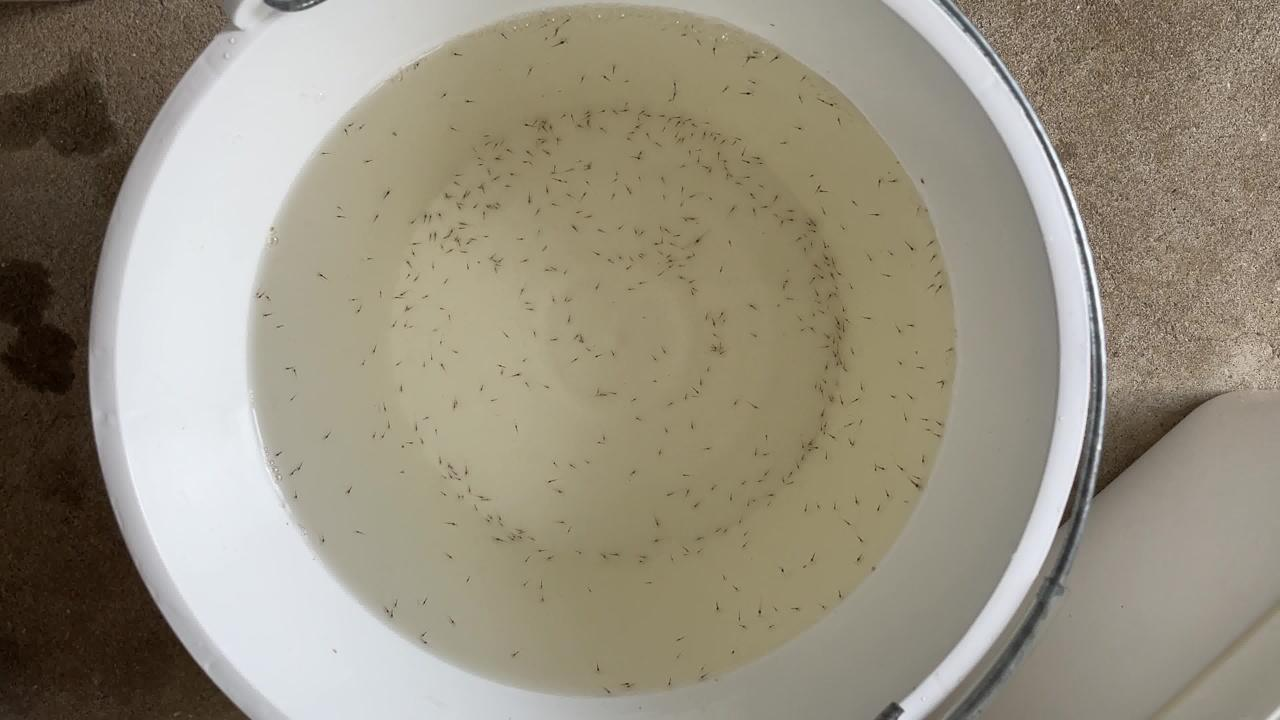shrimp: (287, 468, 299, 476), (295, 462, 307, 470), (275, 453, 287, 461), (290, 491, 302, 499), (319, 530, 331, 538), (341, 491, 353, 499), (355, 524, 367, 532), (322, 431, 334, 439), (286, 392, 298, 400), (282, 361, 294, 369), (292, 367, 304, 375), (280, 323, 292, 331), (262, 311, 274, 319), (254, 291, 266, 299), (264, 293, 276, 301), (315, 268, 327, 276), (336, 214, 348, 222), (335, 203, 347, 211), (347, 293, 359, 301), (352, 302, 364, 310), (318, 148, 330, 156), (340, 126, 352, 134), (345, 119, 357, 127), (359, 124, 371, 132), (361, 156, 373, 164), (385, 190, 397, 198), (372, 211, 384, 219), (364, 251, 376, 259), (375, 286, 387, 294), (356, 357, 368, 365), (368, 342, 380, 350), (388, 320, 400, 328), (397, 320, 409, 328), (405, 322, 417, 330), (393, 358, 405, 366), (380, 398, 392, 406), (371, 431, 383, 439), (378, 433, 390, 441), (382, 420, 394, 428), (382, 607, 394, 615), (387, 613, 399, 621), (392, 598, 404, 606), (419, 630, 431, 638), (419, 636, 431, 644), (419, 599, 431, 607), (444, 614, 456, 622), (511, 649, 523, 657), (592, 662, 604, 670), (598, 685, 610, 693), (616, 677, 628, 685), (624, 682, 636, 690), (660, 678, 672, 686), (676, 651, 688, 659), (675, 631, 687, 639), (694, 661, 706, 669), (693, 675, 705, 683), (537, 579, 549, 587), (520, 582, 532, 590), (465, 572, 477, 580), (446, 552, 458, 560), (449, 516, 461, 524), (398, 468, 410, 476), (397, 444, 409, 452), (407, 439, 419, 447), (421, 437, 433, 445), (410, 425, 422, 433), (395, 383, 407, 391), (421, 413, 433, 421), (433, 428, 445, 436), (432, 461, 444, 469), (441, 487, 453, 495), (438, 473, 450, 481), (444, 473, 456, 481), (452, 476, 464, 484), (448, 468, 460, 476), (445, 460, 457, 468), (453, 492, 465, 500), (465, 486, 477, 494), (462, 466, 474, 474), (470, 503, 482, 511), (482, 494, 494, 502), (475, 491, 487, 499), (482, 509, 494, 517), (483, 519, 495, 527), (493, 538, 505, 546), (495, 519, 507, 527), (495, 513, 507, 521), (504, 535, 516, 543), (513, 534, 525, 542), (520, 528, 532, 536), (515, 526, 527, 534), (527, 533, 539, 541), (523, 553, 535, 561), (538, 544, 550, 552), (543, 554, 555, 562), (426, 352, 438, 360), (421, 361, 433, 369), (433, 361, 445, 369), (452, 398, 464, 406), (450, 344, 462, 352), (436, 337, 448, 345), (428, 323, 440, 331), (401, 305, 413, 313), (393, 293, 405, 301), (399, 288, 411, 296), (422, 293, 434, 301), (435, 303, 447, 311), (448, 312, 460, 320), (409, 273, 421, 281), (402, 272, 414, 280), (402, 262, 414, 270), (408, 251, 420, 259), (412, 241, 424, 249), (428, 262, 440, 270), (439, 275, 451, 283), (501, 331, 513, 339), (496, 360, 508, 368), (498, 366, 510, 374), (475, 382, 487, 390), (487, 394, 499, 402), (511, 420, 523, 428), (508, 368, 520, 376), (517, 357, 529, 365), (522, 379, 534, 387), (547, 381, 559, 389), (551, 457, 563, 465), (550, 475, 562, 483), (553, 486, 565, 494), (557, 519, 569, 527), (565, 526, 577, 534), (575, 546, 587, 554), (585, 585, 597, 593), (537, 596, 549, 604), (729, 647, 741, 655), (739, 622, 751, 630), (735, 612, 747, 620), (713, 605, 725, 613), (649, 578, 661, 586), (635, 558, 647, 566), (638, 551, 650, 559), (597, 552, 609, 560), (607, 552, 619, 560), (566, 464, 578, 472), (581, 454, 593, 462), (597, 439, 609, 447), (599, 430, 611, 438), (887, 177, 899, 185), (874, 177, 886, 185), (821, 99, 833, 107), (816, 93, 828, 101), (835, 115, 847, 123), (825, 101, 837, 109), (799, 94, 811, 102), (799, 70, 811, 78), (447, 51, 459, 59), (390, 128, 402, 136), (440, 92, 452, 100), (448, 123, 460, 131), (462, 99, 474, 107), (527, 67, 539, 75), (497, 30, 509, 38), (557, 40, 569, 48), (550, 30, 562, 38), (539, 22, 551, 30), (561, 18, 573, 26), (608, 61, 620, 69), (599, 70, 611, 78), (580, 72, 592, 80), (621, 74, 633, 82), (671, 80, 683, 88), (671, 87, 683, 95), (666, 94, 678, 102), (713, 44, 725, 52), (693, 36, 705, 44), (676, 28, 688, 36), (725, 84, 737, 92), (741, 90, 753, 98), (746, 77, 758, 85), (751, 55, 763, 63), (741, 56, 753, 64), (774, 51, 786, 59), (754, 48, 766, 56), (792, 119, 804, 127), (780, 135, 792, 143), (430, 232, 442, 240), (425, 232, 437, 240), (427, 209, 439, 217), (421, 210, 433, 218), (404, 214, 416, 222), (435, 206, 447, 214), (444, 226, 456, 234), (438, 240, 450, 248), (463, 262, 475, 270), (522, 296, 534, 304), (524, 304, 536, 312), (530, 333, 542, 341), (547, 331, 559, 339), (571, 352, 583, 360), (518, 287, 530, 295), (445, 242, 457, 250), (452, 230, 464, 238), (455, 236, 467, 244), (457, 247, 469, 255), (467, 235, 479, 243), (463, 239, 475, 247), (475, 257, 487, 265), (486, 251, 498, 259), (496, 255, 508, 263), (488, 255, 500, 263), (494, 261, 506, 269), (490, 264, 502, 272), (437, 190, 449, 198), (445, 191, 457, 199), (458, 217, 470, 225), (453, 224, 465, 232), (454, 203, 466, 211), (456, 199, 468, 207), (459, 189, 471, 197), (466, 190, 478, 198), (469, 200, 481, 208), (478, 230, 490, 238), (452, 183, 464, 191), (452, 173, 464, 181), (471, 182, 483, 190), (479, 185, 491, 193), (478, 212, 490, 220), (483, 203, 495, 211), (487, 200, 499, 208), (492, 202, 504, 210), (494, 196, 506, 204), (492, 175, 504, 183), (487, 170, 499, 178), (478, 160, 490, 168), (479, 154, 491, 162), (473, 147, 485, 155), (481, 140, 493, 148), (481, 132, 493, 140), (491, 142, 503, 150), (493, 153, 505, 161), (500, 179, 512, 187), (511, 169, 523, 177), (517, 233, 529, 241), (520, 255, 532, 263), (723, 570, 735, 578), (733, 585, 745, 593), (684, 543, 696, 551), (680, 554, 692, 562), (652, 536, 664, 544), (653, 518, 665, 526), (666, 555, 678, 563), (629, 470, 641, 478), (591, 387, 603, 395), (602, 391, 614, 399), (608, 385, 620, 393), (577, 332, 589, 340), (576, 339, 588, 347), (570, 331, 582, 339), (584, 341, 596, 349), (593, 351, 605, 359), (607, 347, 619, 355), (630, 395, 642, 403), (634, 411, 646, 419), (648, 376, 660, 384), (649, 356, 661, 364), (659, 348, 671, 356), (564, 294, 576, 302), (560, 293, 572, 301), (566, 314, 578, 322), (550, 295, 562, 303), (680, 389, 692, 397), (688, 392, 700, 400), (667, 399, 679, 407), (660, 426, 672, 434), (656, 449, 668, 457), (686, 420, 698, 428), (694, 378, 706, 386), (705, 363, 717, 371), (732, 398, 744, 406), (748, 398, 760, 406), (700, 442, 712, 450), (664, 494, 676, 502), (682, 472, 694, 480), (692, 500, 704, 508), (681, 486, 693, 494), (697, 544, 709, 552), (698, 533, 710, 541), (756, 606, 768, 614), (766, 621, 778, 629), (792, 603, 804, 611), (772, 603, 784, 611), (776, 563, 788, 571), (809, 555, 821, 563), (800, 561, 812, 569), (817, 602, 829, 610), (832, 592, 844, 600), (854, 549, 866, 557), (857, 534, 869, 542), (842, 518, 854, 526), (830, 504, 842, 512), (812, 501, 824, 509), (799, 503, 811, 511), (741, 541, 753, 549), (725, 527, 737, 535), (716, 525, 728, 533), (745, 529, 757, 537), (737, 515, 749, 523), (706, 481, 718, 489), (725, 491, 737, 499), (569, 222, 581, 230), (548, 262, 560, 270), (542, 265, 554, 273), (558, 265, 570, 273), (543, 242, 555, 250), (533, 226, 545, 234), (534, 206, 546, 214), (524, 194, 536, 202), (504, 144, 516, 152), (517, 158, 529, 166), (527, 159, 539, 167), (520, 146, 532, 154), (521, 122, 533, 130), (558, 110, 570, 118), (569, 109, 581, 117), (572, 123, 584, 131), (600, 124, 612, 132), (585, 120, 597, 128), (583, 113, 595, 121), (582, 107, 594, 115), (598, 104, 610, 112), (622, 98, 634, 106), (619, 104, 631, 112), (610, 105, 622, 113), (627, 185, 639, 193), (607, 175, 619, 183), (552, 197, 564, 205), (611, 168, 623, 176), (607, 191, 619, 199), (542, 184, 554, 192), (556, 174, 568, 182), (545, 167, 557, 175), (551, 159, 563, 167), (578, 184, 590, 192), (562, 190, 574, 198), (567, 165, 579, 173), (584, 160, 596, 168), (584, 167, 596, 175), (574, 155, 586, 163), (574, 207, 586, 215), (587, 209, 599, 217), (596, 225, 608, 233), (591, 248, 603, 256), (593, 282, 605, 290), (604, 255, 616, 263), (542, 147, 554, 155), (539, 141, 551, 149), (534, 137, 546, 145), (554, 136, 566, 144), (547, 120, 559, 128), (538, 114, 550, 122), (528, 114, 540, 122), (540, 121, 552, 129), (532, 123, 544, 131), (620, 138, 632, 146), (624, 130, 636, 138), (631, 122, 643, 130), (631, 111, 643, 119), (643, 112, 655, 120), (644, 131, 656, 139), (637, 146, 649, 154), (634, 153, 646, 161), (636, 174, 648, 182), (661, 112, 673, 120), (660, 123, 672, 131), (655, 140, 667, 148), (659, 174, 671, 182), (659, 193, 671, 201), (618, 221, 630, 229), (615, 254, 627, 262), (623, 263, 635, 271), (623, 286, 635, 294), (635, 276, 647, 284), (738, 477, 750, 485), (742, 500, 754, 508), (752, 495, 764, 503), (766, 500, 778, 508), (768, 491, 780, 499), (755, 476, 767, 484), (763, 469, 775, 477), (750, 448, 762, 456), (760, 432, 772, 440), (758, 450, 770, 458), (776, 475, 788, 483), (786, 481, 798, 489), (785, 470, 797, 478), (792, 462, 804, 470), (800, 455, 812, 463), (799, 439, 811, 447), (813, 442, 825, 450), (803, 448, 815, 456), (806, 438, 818, 446), (821, 451, 833, 459), (848, 496, 860, 504), (870, 504, 882, 512), (884, 485, 896, 493), (869, 465, 881, 473), (877, 461, 889, 469), (898, 463, 910, 471), (912, 483, 924, 491), (912, 474, 924, 482), (918, 454, 930, 462), (923, 426, 935, 434), (920, 417, 932, 425), (936, 433, 948, 441), (933, 421, 945, 429), (940, 380, 952, 388), (935, 376, 947, 384), (946, 342, 958, 350), (922, 236, 934, 244), (930, 251, 942, 259), (935, 263, 947, 271), (924, 285, 936, 293), (938, 285, 950, 293), (904, 249, 916, 257), (872, 211, 884, 219), (850, 195, 862, 203), (821, 186, 833, 194), (813, 182, 825, 190), (805, 169, 817, 177), (816, 208, 828, 216), (840, 221, 852, 229), (865, 256, 877, 264), (877, 270, 889, 278), (889, 247, 901, 255), (889, 390, 901, 398), (901, 411, 913, 419), (906, 394, 918, 402), (895, 357, 907, 365), (891, 324, 903, 332), (863, 315, 875, 323), (913, 319, 925, 327), (912, 347, 924, 355), (918, 363, 930, 371), (715, 265, 727, 273), (701, 310, 713, 318), (709, 319, 721, 327), (710, 340, 722, 348), (708, 346, 720, 354), (718, 350, 730, 358), (718, 341, 730, 349), (709, 332, 721, 340), (715, 307, 727, 315), (720, 314, 732, 322), (815, 423, 827, 431), (822, 418, 834, 426), (819, 428, 831, 436), (747, 328, 759, 336), (746, 303, 758, 311), (629, 225, 641, 233), (637, 227, 649, 235), (623, 254, 635, 262), (635, 249, 647, 257), (690, 282, 702, 290), (686, 287, 698, 295), (685, 276, 697, 284), (676, 270, 688, 278), (651, 271, 663, 279), (666, 263, 678, 271), (678, 261, 690, 269), (667, 256, 679, 264), (663, 250, 675, 258), (657, 249, 669, 257), (652, 239, 664, 247), (656, 235, 668, 243), (843, 436, 855, 444), (828, 431, 840, 439), (852, 438, 864, 446), (843, 421, 855, 429), (855, 415, 867, 423), (849, 393, 861, 401), (816, 409, 828, 417), (823, 395, 835, 403), (828, 392, 840, 400), (839, 398, 851, 406), (858, 379, 870, 387), (783, 275, 795, 283), (777, 285, 789, 293), (774, 301, 786, 309), (694, 238, 706, 246), (654, 223, 666, 231), (673, 230, 685, 238), (688, 248, 700, 256), (683, 254, 695, 262), (672, 241, 684, 249), (662, 224, 674, 232), (676, 215, 688, 223), (689, 213, 701, 221), (694, 217, 706, 225), (726, 236, 738, 244), (676, 198, 688, 206), (677, 180, 689, 188), (678, 159, 690, 167), (669, 129, 681, 137), (672, 109, 684, 117), (673, 118, 685, 126), (670, 137, 682, 145), (682, 134, 694, 142), (685, 148, 697, 156), (688, 192, 700, 200), (705, 194, 717, 202), (729, 202, 741, 210), (820, 388, 832, 396), (816, 380, 828, 388), (810, 382, 822, 390), (821, 359, 833, 367), (839, 364, 851, 372), (832, 361, 844, 369), (836, 353, 848, 361), (828, 349, 840, 357), (818, 344, 830, 352), (822, 329, 834, 337), (831, 338, 843, 346), (795, 324, 807, 332), (809, 322, 821, 330), (792, 315, 804, 323), (785, 294, 797, 302), (746, 206, 758, 214), (755, 181, 767, 189), (750, 193, 762, 201), (768, 193, 780, 201), (756, 200, 768, 208), (773, 210, 785, 218), (781, 205, 793, 213), (776, 218, 788, 226), (788, 212, 800, 220), (694, 155, 706, 163), (698, 162, 710, 170), (705, 167, 717, 175), (688, 125, 700, 133), (683, 113, 695, 121), (701, 115, 713, 123), (715, 127, 727, 135), (734, 132, 746, 140), (719, 157, 731, 165), (726, 167, 738, 175), (721, 175, 733, 183), (714, 149, 726, 157), (698, 134, 710, 142), (709, 138, 721, 146), (706, 130, 718, 138), (719, 136, 731, 144), (737, 148, 749, 156), (754, 149, 766, 157), (733, 180, 745, 188), (743, 155, 755, 163), (740, 172, 752, 180), (757, 156, 769, 164), (811, 216, 823, 224), (848, 346, 860, 354), (834, 316, 846, 324), (832, 326, 844, 334), (841, 321, 853, 329), (807, 310, 819, 318), (807, 226, 819, 234), (790, 234, 802, 242), (823, 240, 835, 248), (846, 278, 858, 286), (821, 241, 833, 249), (800, 230, 812, 238), (798, 243, 810, 251), (807, 237, 819, 245), (815, 297, 827, 305), (818, 308, 830, 316), (837, 303, 849, 311), (812, 285, 824, 293), (830, 255, 842, 263), (809, 276, 821, 284), (825, 292, 837, 300), (830, 289, 842, 297), (831, 284, 843, 292), (811, 264, 823, 272), (818, 275, 830, 283), (833, 266, 845, 274), (819, 250, 831, 258), (830, 267, 842, 275), (825, 258, 837, 266), (920, 269, 932, 277)
